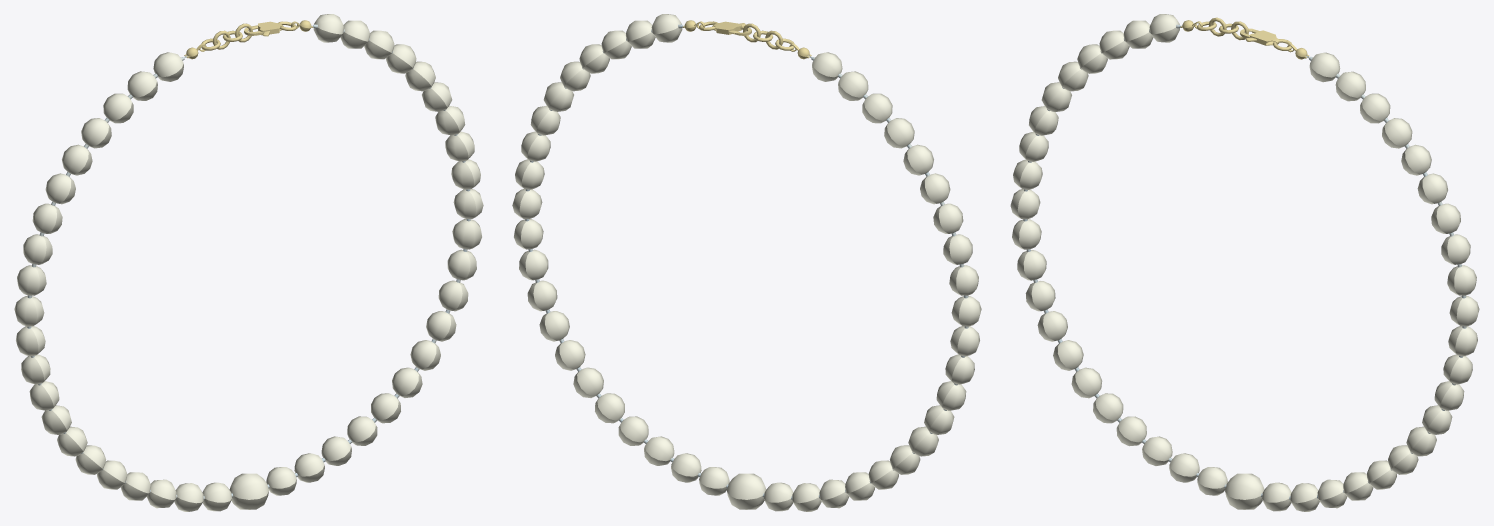
Rendered from pearl_necklace.glb.
The picture shows the model from 3 angles, left to right: view 1: azimuth 30°, elevation 25°; view 2: azimuth 150°, elevation 25°; view 3: azimuth 330°, elevation 25°; orthographic projection.
Visible parts, largest first — view 1: PearlNecklace; view 2: PearlNecklace; view 3: PearlNecklace.
Boxes of the visible parts, x1,y1,x2,y2 form: PearlNecklace: (14,14,483,511); PearlNecklace: (512,14,981,511); PearlNecklace: (1010,14,1479,511).
Size of the model in its own units: 0.1782 by 0.178 by 0.0133.
1 material, 1 textured.
